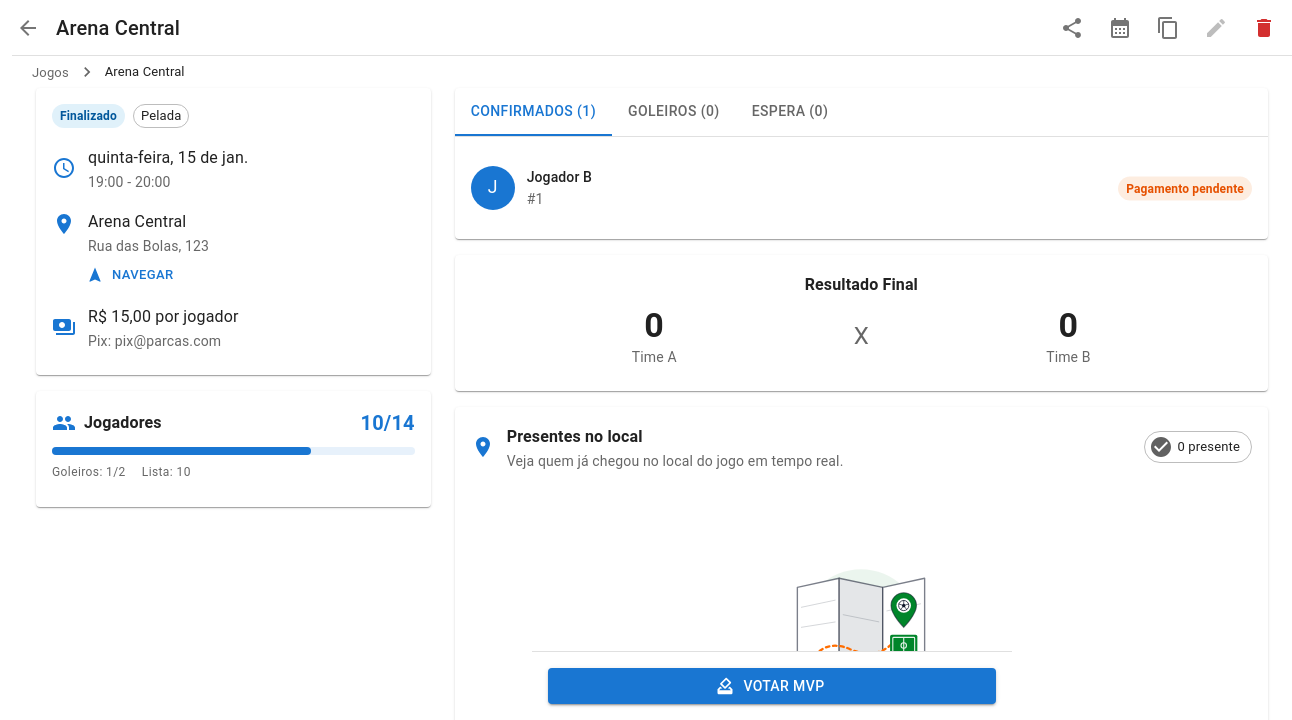
Test: GameDetailScreen › jogo finalizado: a dica do editar desligado aparece e diz o motivo
This screenshot has width=1292, height=720.
Hover over the element named "Só dá para editar o jogo antes de ele começar": (1216, 28) [1196, 8, 1236, 48]
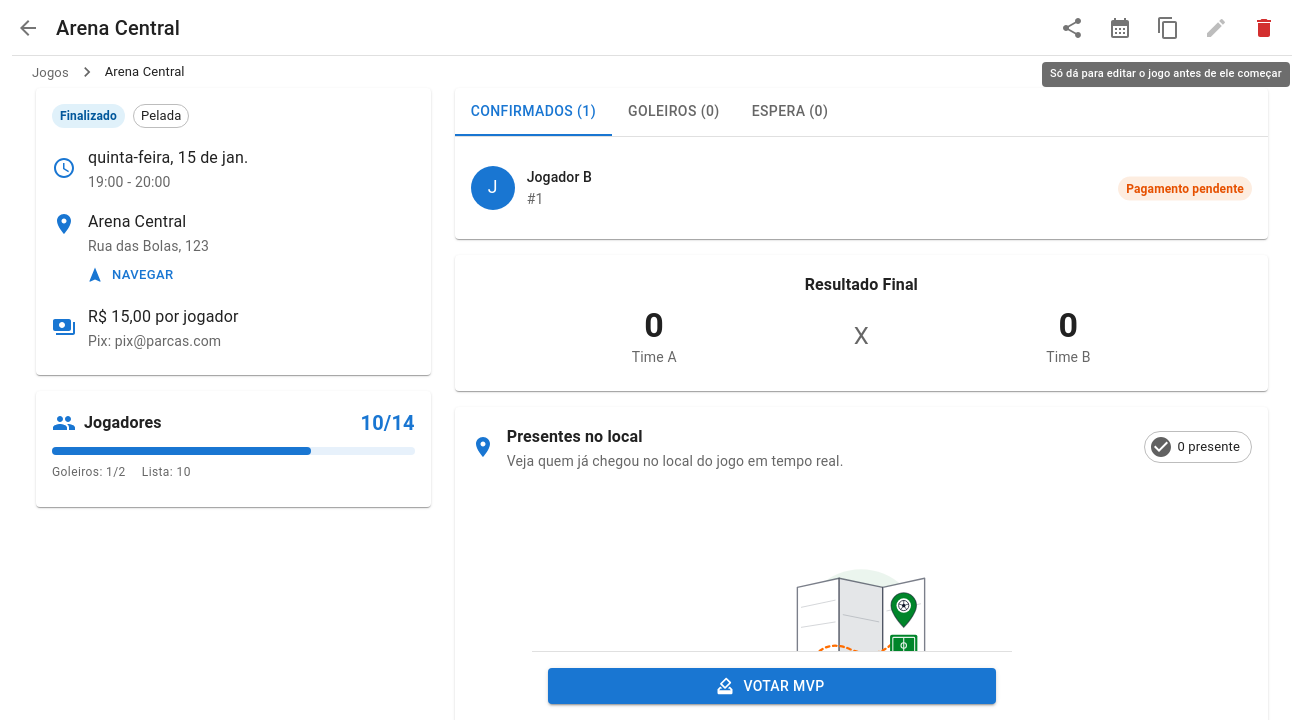
Check: the tooltip reads "Só dá para editar o jogo antes de ele começar", box [1050, 67, 1282, 80]
